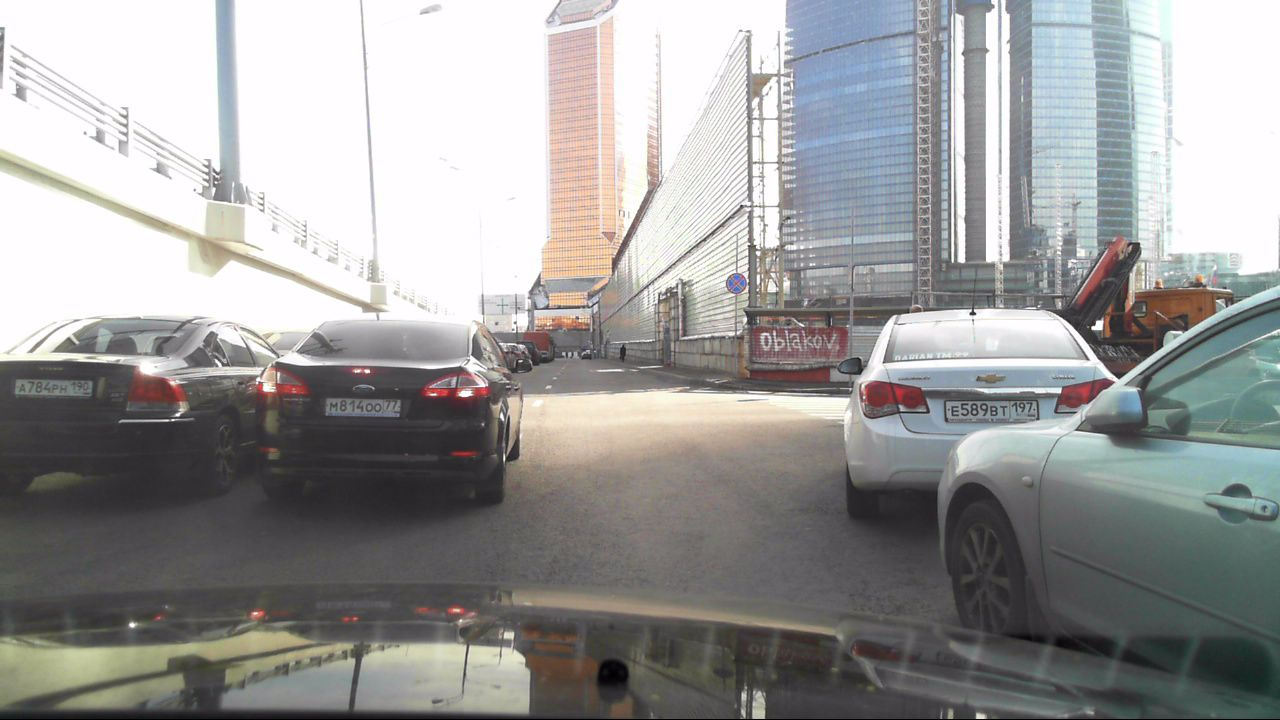No Parking: (723, 269, 748, 295)
